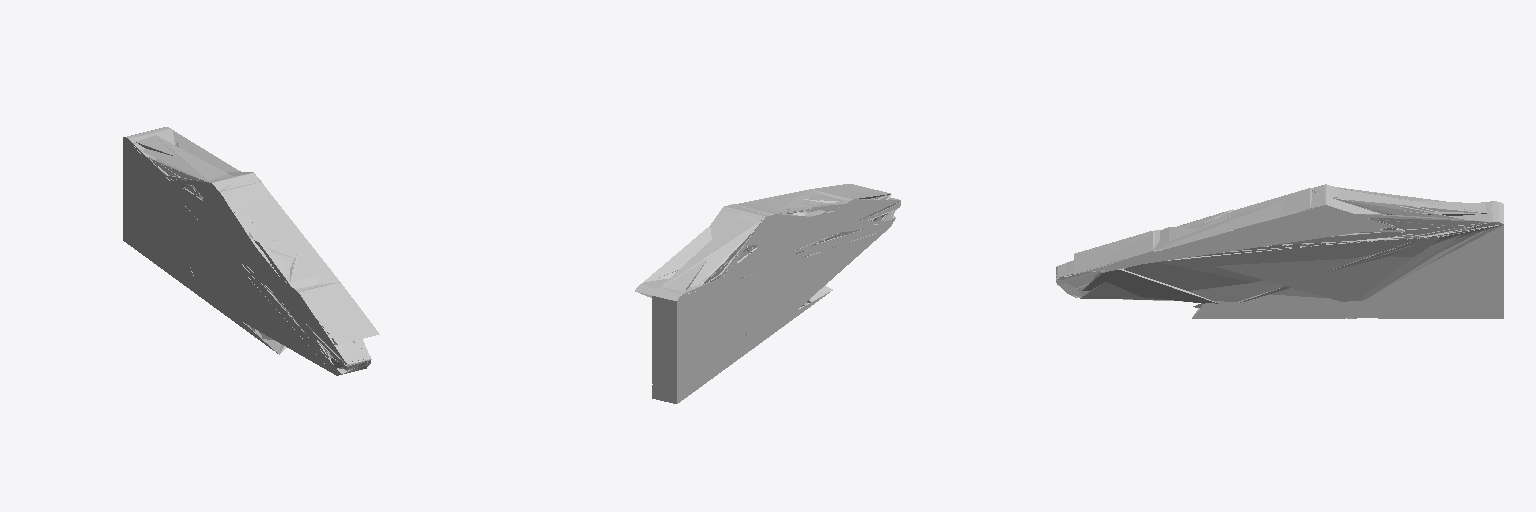
Rendered from yt_Sec.obj.
The picture shows the model from 3 angles: view 1: azimuth 30°, elevation 25°; view 2: azimuth 150°, elevation 25°; view 3: azimuth 270°, elevation 25°; orthographic projection.
Visible parts, largest first — view 1: 3, 0, 2, tunnel_right, 1; view 2: 3, 0, 2, tunnel_right, 1; view 3: 3, 2, 0, fractures, 1, tunnel_right.
Part boxes in pixels (left/top/right/bottom): 3: left=132, top=129, right=379, bottom=374; 0: left=123, top=133, right=185, bottom=282; 2: left=126, top=127, right=370, bottom=375; tunnel_right: left=123, top=134, right=285, bottom=354; 1: left=130, top=134, right=280, bottom=353; 3: left=642, top=184, right=900, bottom=386; 0: left=652, top=258, right=739, bottom=403; 2: left=635, top=197, right=900, bottom=342; tunnel_right: left=652, top=211, right=832, bottom=403; 1: left=654, top=268, right=832, bottom=386; 3: left=1056, top=185, right=1503, bottom=318; 2: left=1056, top=184, right=1503, bottom=318; 0: left=1385, top=203, right=1503, bottom=318; fractures: left=1246, top=213, right=1503, bottom=318; 1: left=1301, top=231, right=1502, bottom=318; tunnel_right: left=1193, top=185, right=1503, bottom=318.
Size of the model in its own units: 180 by 501 by 1659.